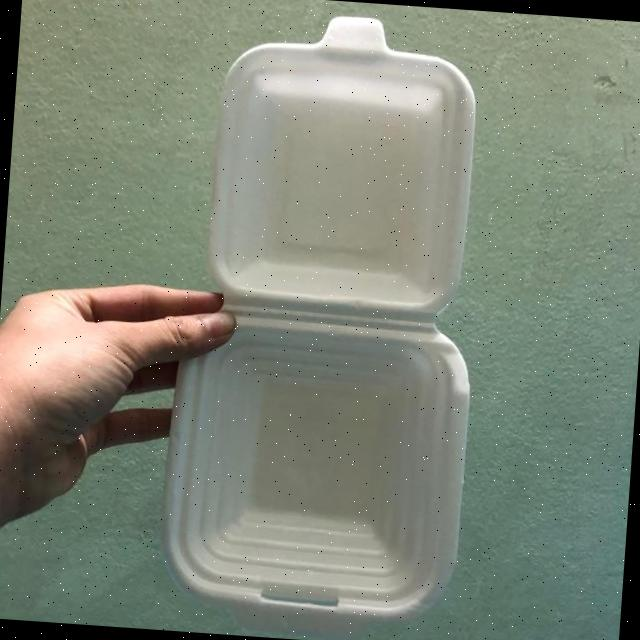styrofoam: (153, 2, 497, 626)
